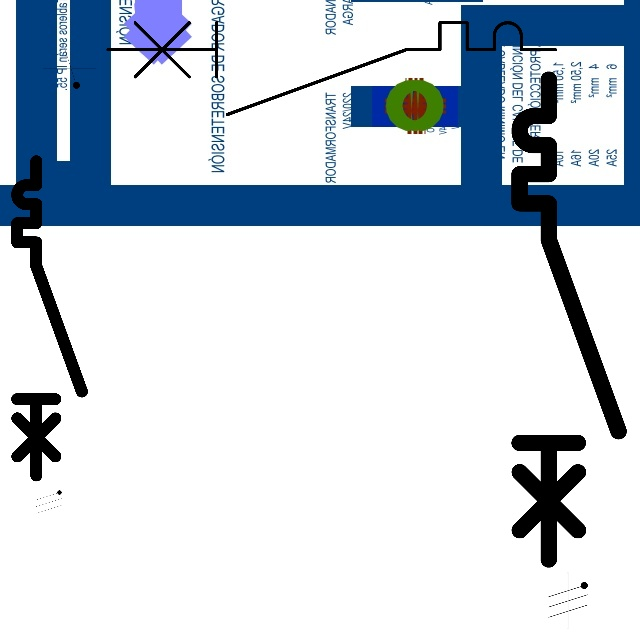interruptor_termomagnetico: (507, 67, 630, 572), (96, 11, 566, 126), (9, 153, 90, 483)
